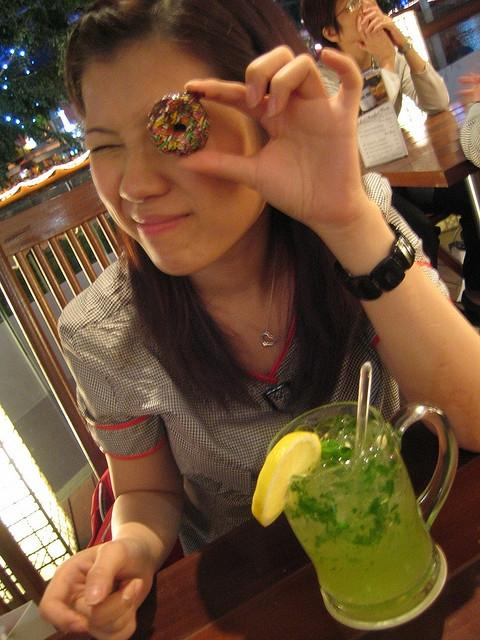lemon: (252, 432, 322, 527)
